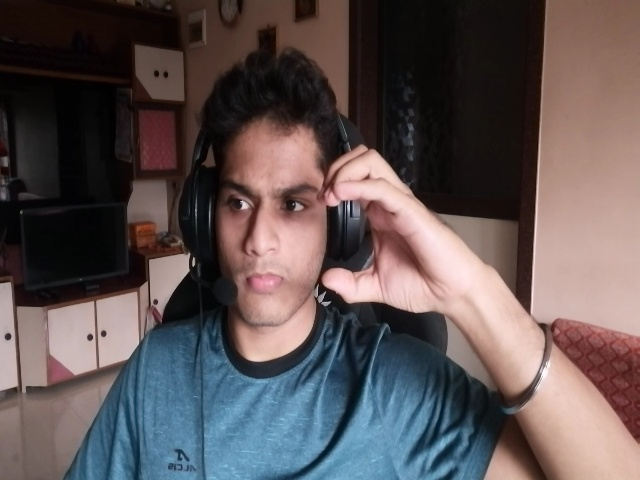C: (317, 143, 447, 314)
